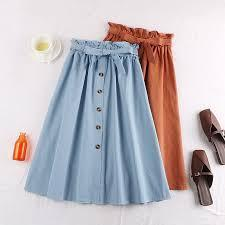skirt: (23, 42, 168, 206)
